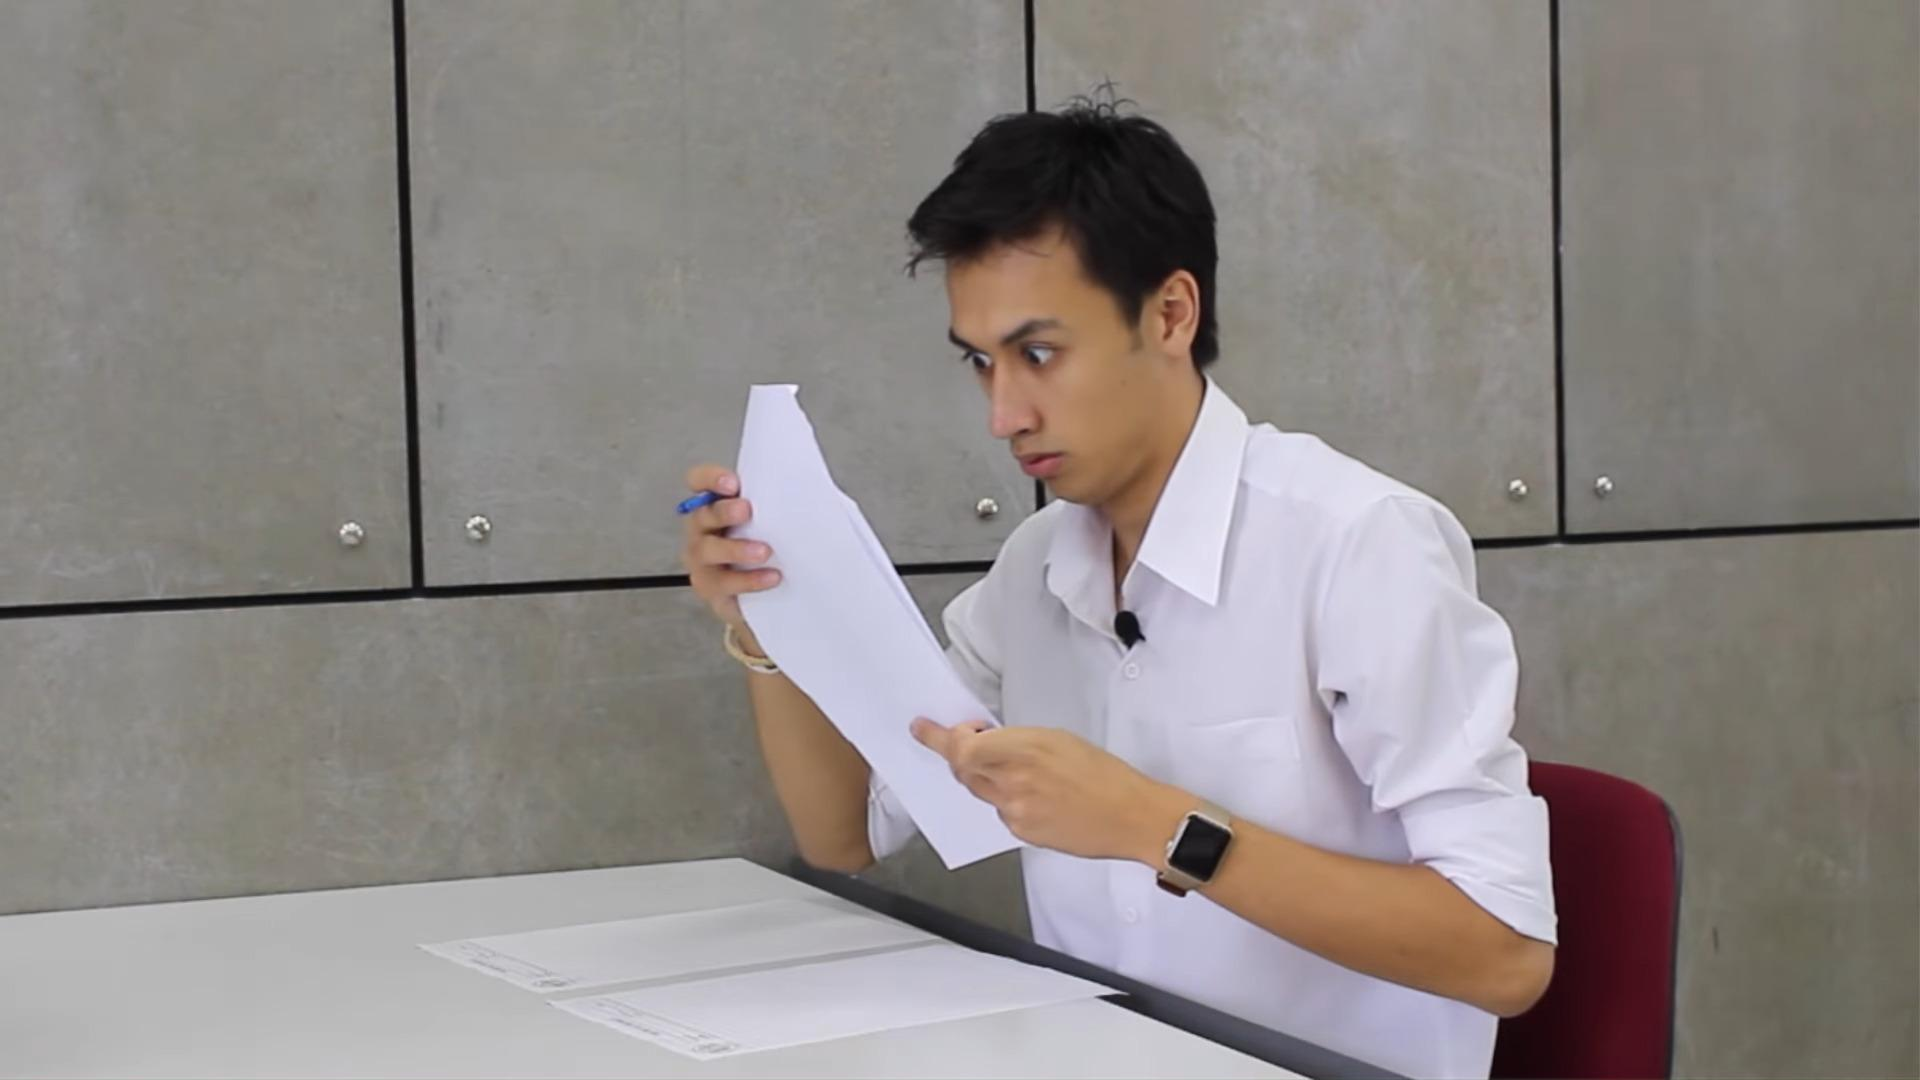good: (371, 88, 1585, 1077)
